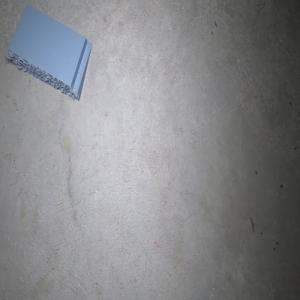PlasticPart: (4, 3, 92, 100)
